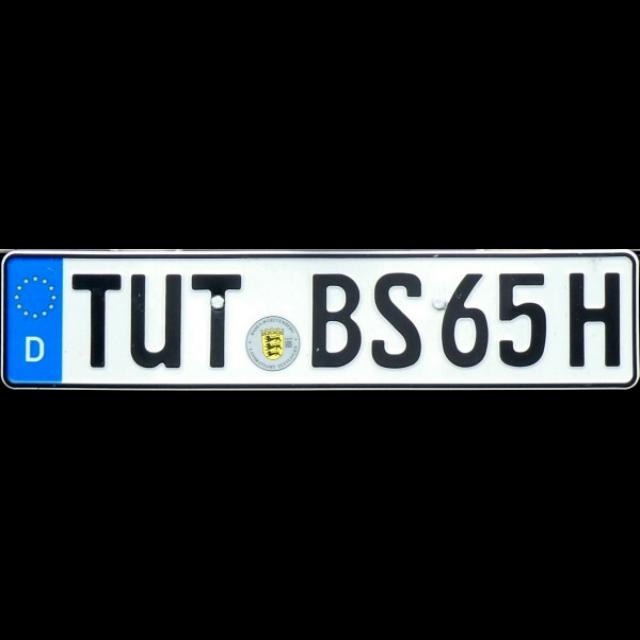d_license_plate: (4, 254, 634, 386)
